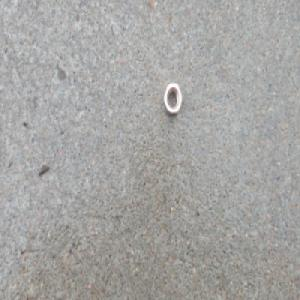Nut: (162, 83, 181, 118)
